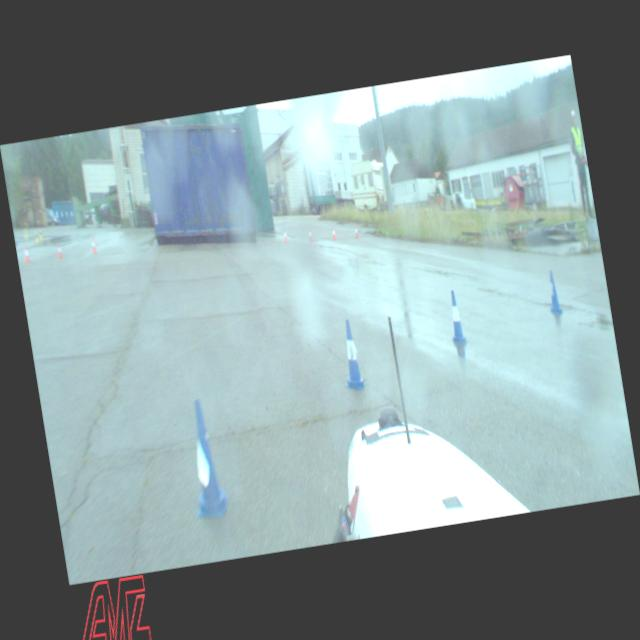blue_cone: (180, 394, 232, 522), (336, 318, 367, 392), (444, 288, 468, 346), (544, 268, 564, 316)
orange_cone: (22, 243, 31, 264), (56, 242, 64, 260), (90, 237, 98, 254), (282, 228, 288, 244), (353, 224, 359, 240), (308, 227, 314, 242), (331, 227, 337, 240)
